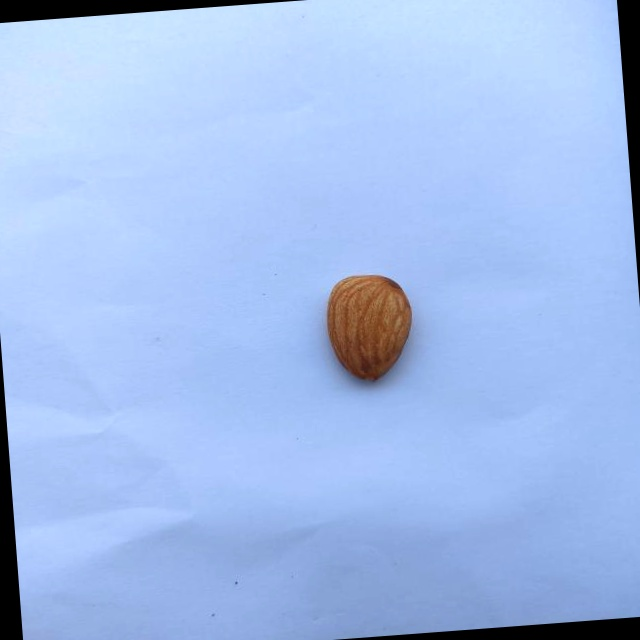grade1: (313, 265, 423, 393)
